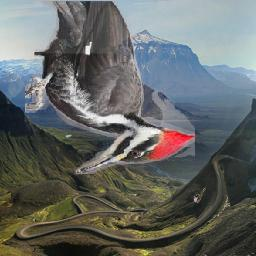Cuckoo: (192, 187, 206, 204)
Woodpecker: (25, 2, 195, 177)
